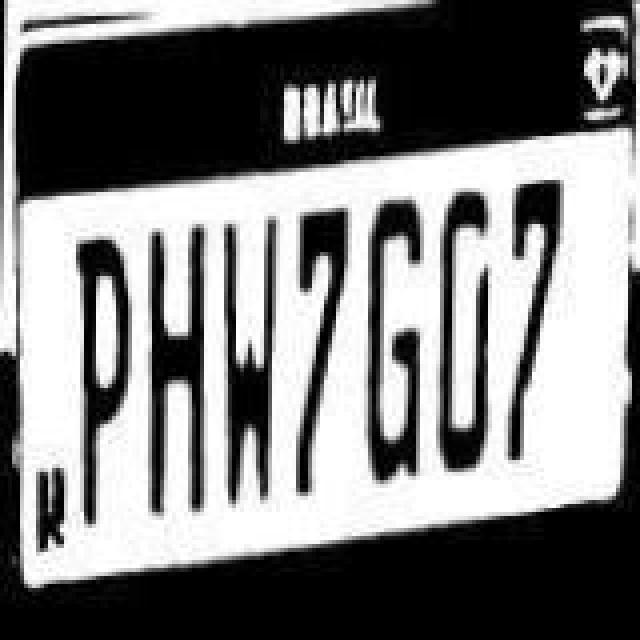7: (498, 174, 574, 466), (290, 210, 358, 498)
D: (432, 192, 496, 472)
G: (358, 200, 434, 488)
H: (142, 220, 210, 516)
P: (66, 236, 138, 524)
W: (214, 212, 282, 500)
